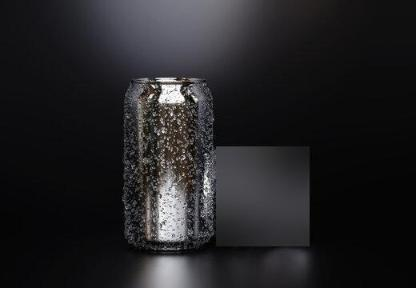Can: (123, 76, 215, 253)
